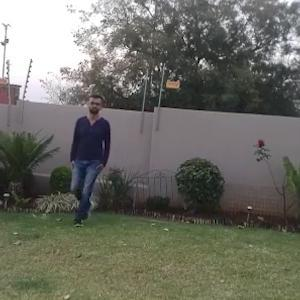follow: (66, 89, 104, 228)
